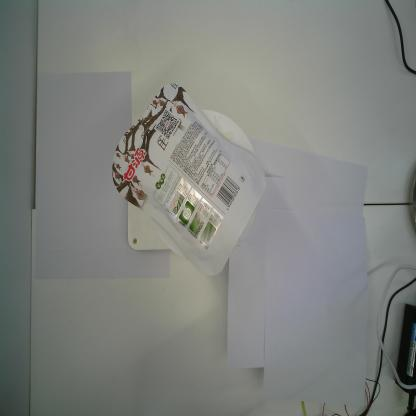Dried Fruit: (111, 82, 266, 277)
